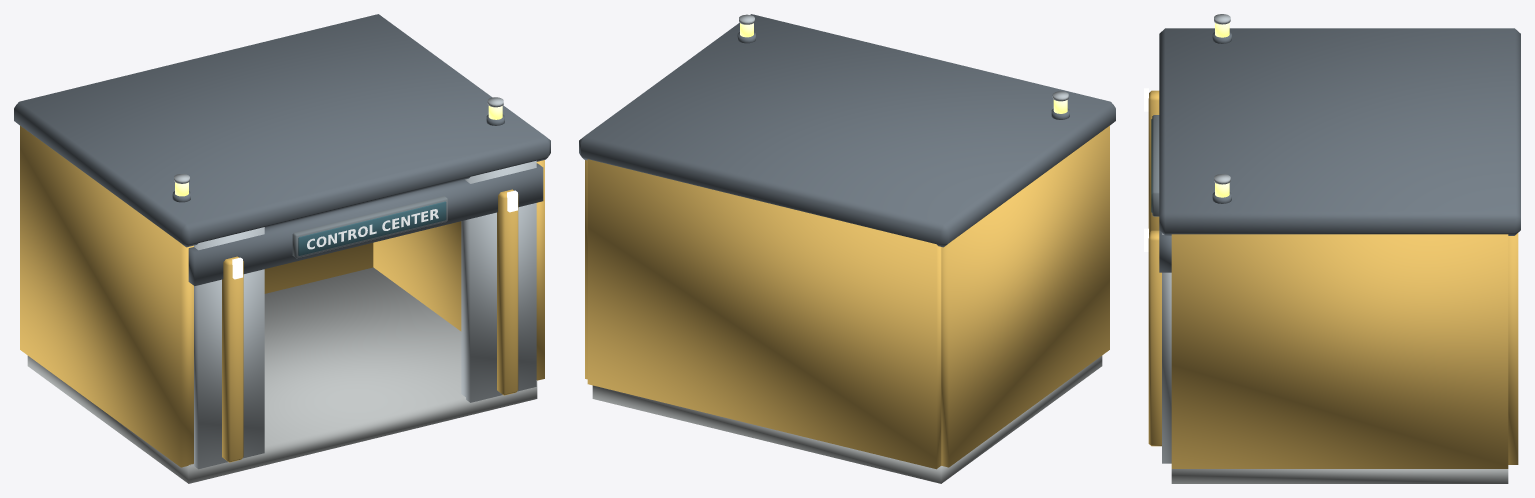
The model's file is control_center_standard.glb.
3 renders of one model, left to right at view 1: azimuth 30°, elevation 25°; view 2: azimuth 150°, elevation 25°; view 3: azimuth 270°, elevation 25°, orthographic. The views are drawn at different scales.
Visible parts, largest first — view 1: Roof_dark_legacy_2, Wall_orange_legacy_1, Foundation_concrete_legacy_0, FrontFrame_steel_legacy_3, Header_dark_legacy_4, PortalTrim_orange_legacy_13, SignPlate_glass, ScreenMount_frame, TypeLabel_white; view 2: Wall_orange_legacy_1, Roof_dark_legacy_2, Foundation_concrete_legacy_0; view 3: Wall_orange_legacy_1, Roof_dark_legacy_2, Foundation_concrete_legacy_0, PortalTrim_orange_legacy_13, FrontFrame_steel_legacy_3, ScreenMount_frame, Header_dark_legacy_4, StatusLight_warn_legacy_10.
Boxes of the visible parts, <box> form: Roof_dark_legacy_2: <box>14,14,550,247</box>; Wall_orange_legacy_1: <box>20,125,544,467</box>; Foundation_concrete_legacy_0: <box>27,267,537,483</box>; FrontFrame_steel_legacy_3: <box>194,160,536,469</box>; Header_dark_legacy_4: <box>188,163,543,285</box>; PortalTrim_orange_legacy_13: <box>222,189,518,462</box>; SignPlate_glass: <box>298,201,446,255</box>; ScreenMount_frame: <box>292,196,447,258</box>; TypeLabel_white: <box>307,209,438,249</box>; Wall_orange_legacy_1: <box>585,125,1109,469</box>; Roof_dark_legacy_2: <box>579,14,1115,247</box>; Foundation_concrete_legacy_0: <box>592,356,1102,483</box>; Wall_orange_legacy_1: <box>1171,233,1518,468</box>; Roof_dark_legacy_2: <box>1159,28,1520,235</box>; Foundation_concrete_legacy_0: <box>1171,469,1508,483</box>; PortalTrim_orange_legacy_13: <box>1148,90,1161,446</box>; FrontFrame_steel_legacy_3: <box>1162,233,1171,463</box>; ScreenMount_frame: <box>1152,115,1159,216</box>; Header_dark_legacy_4: <box>1159,230,1171,272</box>; StatusLight_warn_legacy_10: <box>1215,23,1229,197</box>.
Size of the model in its own units: 5.3 by 3.9 by 4.48.
